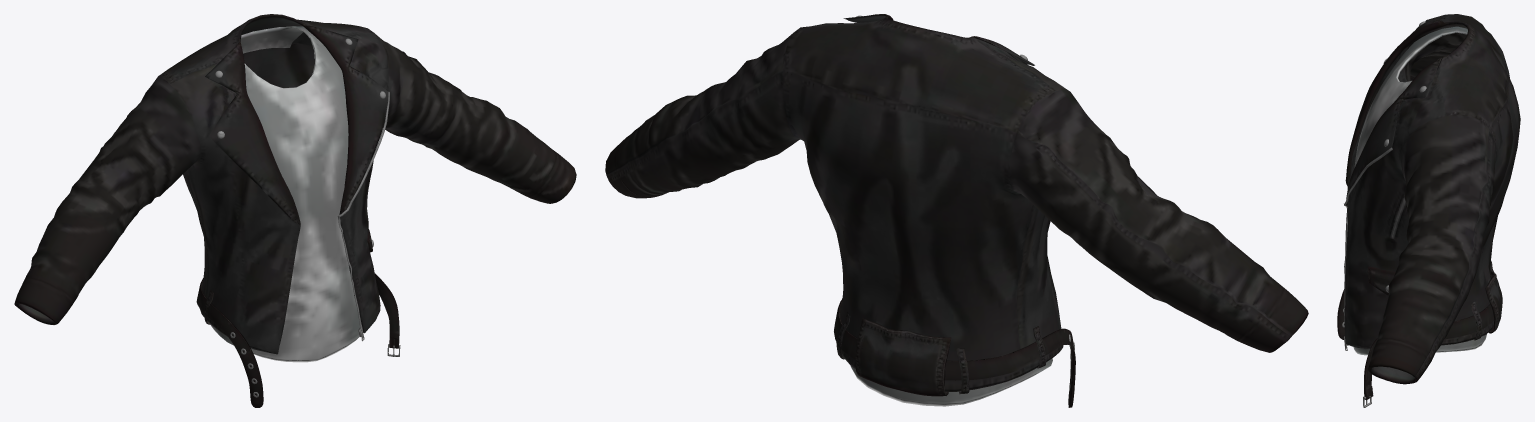
The model's file is leather_jacket.glb.
The picture shows the model from 3 angles, left to right: view 1: azimuth 30°, elevation 25°; view 2: azimuth 150°, elevation 25°; view 3: azimuth 270°, elevation 25°; orthographic projection. The views are drawn at different scales.
Parts seen in each view (by area): view 1: defaultMaterial; view 2: defaultMaterial; view 3: defaultMaterial.
Boxes of the visible parts, x1,y1,x2,y2 form: defaultMaterial: (14, 14, 576, 407); defaultMaterial: (605, 14, 1308, 407); defaultMaterial: (1337, 14, 1520, 407).
Size of the model in its own units: 2 by 1.15 by 0.5584.
1 material, 1 textured.
